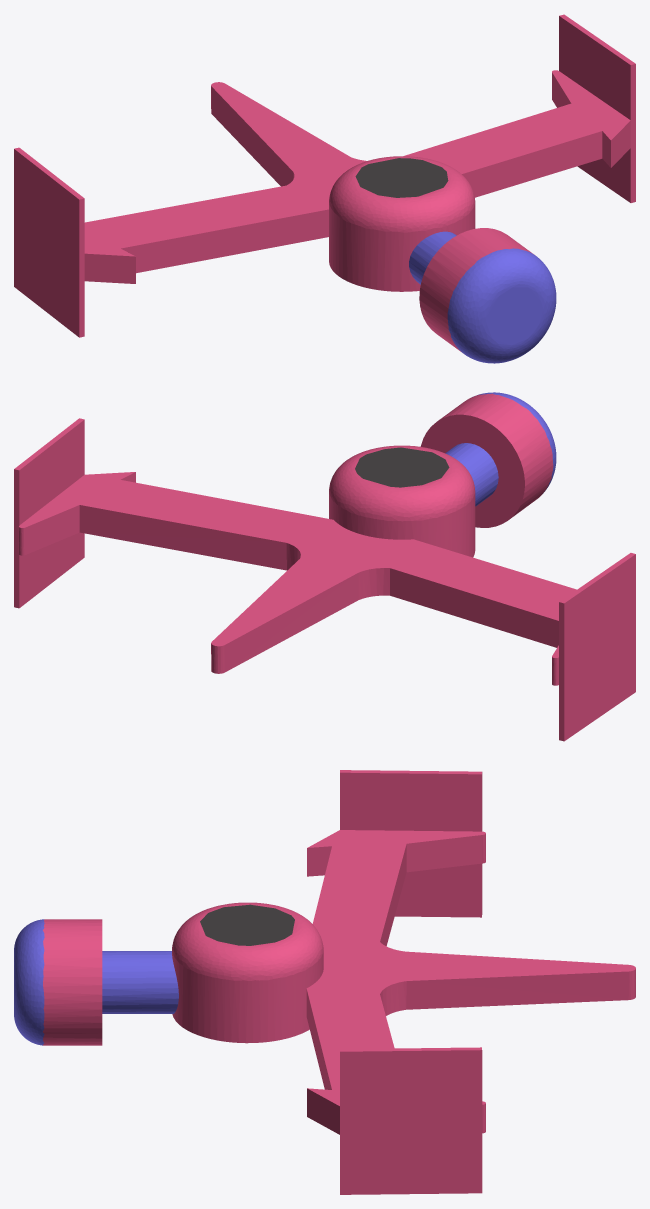
Rendered from playerShip.fbx.
The picture shows the model from 3 angles, top to bottom: view 1: azimuth 30°, elevation 25°; view 2: azimuth 150°, elevation 25°; view 3: azimuth 270°, elevation 25°; orthographic projection. The views are drawn at different scales.
Visible parts, largest first — view 1: playership; view 2: playership; view 3: playership.
Boxes of the visible parts, box(x1,y1,x2,y2) form: playership: box(14, 14, 635, 363); playership: box(14, 392, 635, 741); playership: box(14, 770, 635, 1194).
Bounding box in the file's own units: 21095 × 19683 × 5000.
